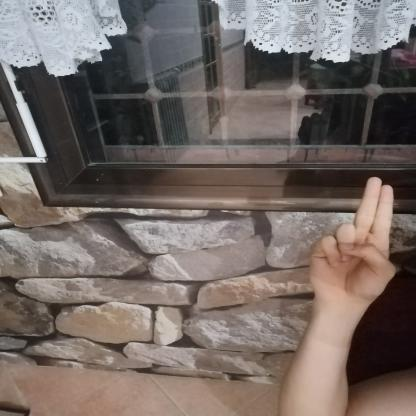TA: (294, 170, 406, 312)
